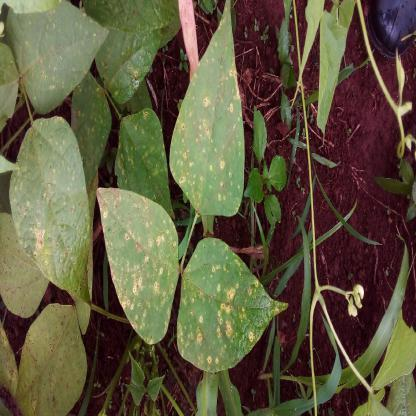Beans_Rust: (174, 240, 284, 376), (10, 105, 88, 296), (172, 25, 248, 203), (97, 183, 178, 341), (11, 2, 110, 112), (15, 302, 85, 416)
